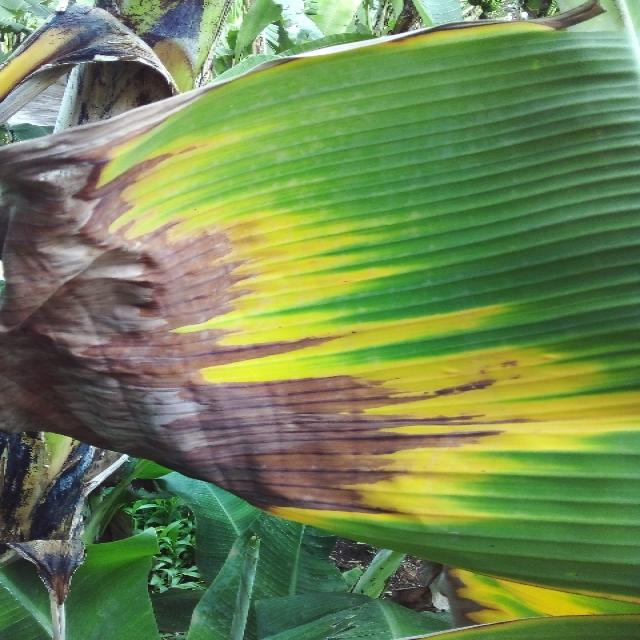Cordana: (64, 17, 640, 640)
